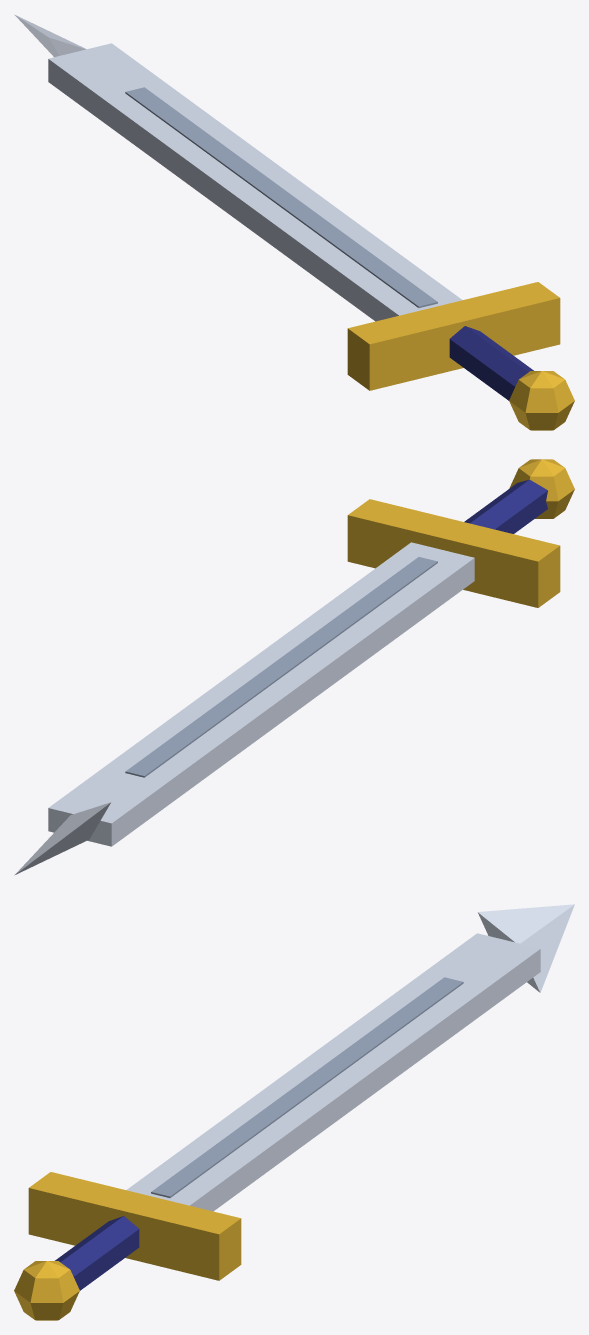
The model's file is knight_sword.glb.
3 renders of one model, top to bottom at view 1: azimuth 30°, elevation 25°; view 2: azimuth 150°, elevation 25°; view 3: azimuth 330°, elevation 25°, orthographic.
Parts seen in each view (by area): view 1: KnightSword; view 2: KnightSword; view 3: KnightSword.
Boxes of the visible parts, x1,y1,x2,y2 form: KnightSword: (14,14,574,430); KnightSword: (14,459,574,875); KnightSword: (14,904,574,1320).
Bounding box in the file's own units: 0.3 × 0.099 × 1.49.
